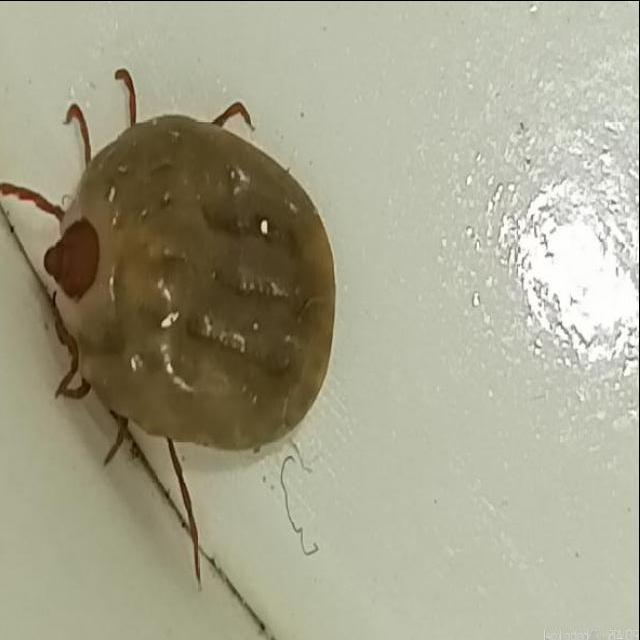Rhipicephalus Sanguineus-F-Fed: (0, 69, 339, 594)
